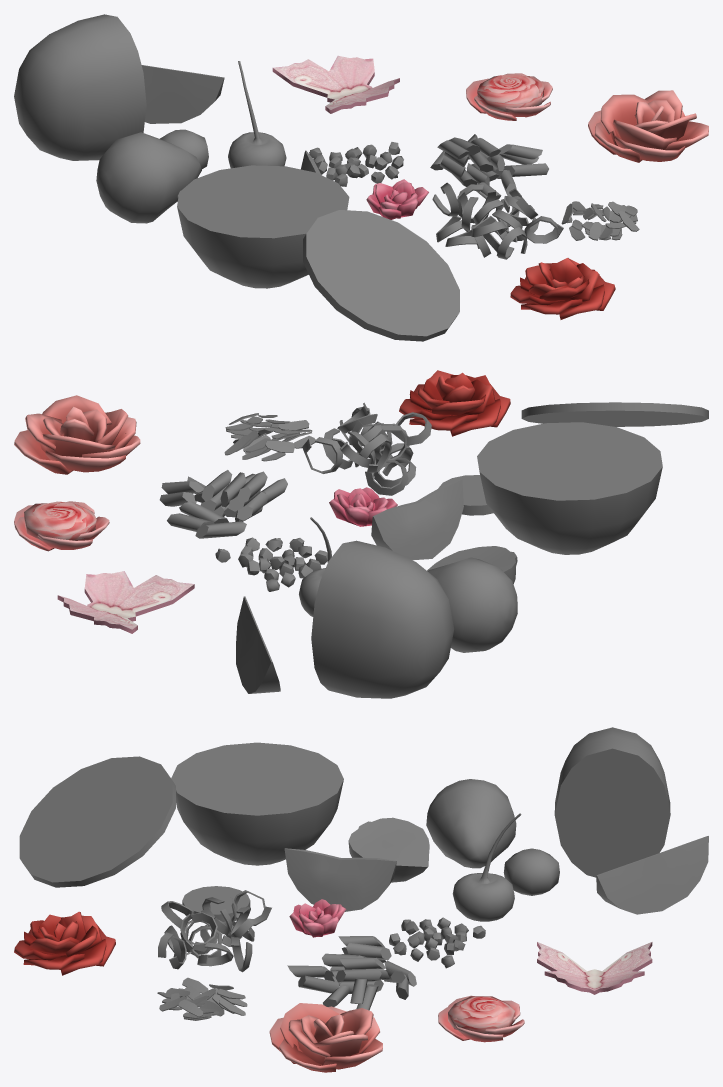
The model's file is fruitsCakeDeco.fbx.
3 views of the same model, one above another, from view 1: azimuth 30°, elevation 25°; view 2: azimuth 150°, elevation 25°; view 3: azimuth 270°, elevation 25° (orthographic). The views are drawn at different scales.
Visible parts, largest first — view 1: Box005, Sphere006, Sphere004, Box004, Line001, Helix138, Object018, Cylinder307, Line004, Box006, Sphere002, Box581 (+4 smaller); view 2: Sphere004, Box005, Line001, Box004, Cylinder307, Helix138, Object018, Box582, Line004, Sphere006, Sphere002, Box581 (+6 smaller); view 3: Sphere004, Sphere006, Box005, Line001, Box004, Box006, Cylinder307, Helix138, Box582, Object018, Box003, Line004 (+7 smaller).
Part boxes in pixels (x1=…): Box005: x1=14, y1=14, x2=146, y2=160; Sphere006: x1=303, y1=210, x2=459, y2=341; Sphere004: x1=177, y1=165, x2=349, y2=288; Box004: x1=96, y1=132, x2=201, y2=223; Line001: x1=588, y1=90, x2=708, y2=162; Helix138: x1=432, y1=182, x2=563, y2=259; Object018: x1=510, y1=258, x2=615, y2=319; Cylinder307: x1=430, y1=134, x2=548, y2=199; Line004: x1=272, y1=55, x2=399, y2=113; Box006: x1=141, y1=65, x2=224, y2=123; Sphere002: x1=466, y1=73, x2=552, y2=120; Box581: x1=309, y1=142, x2=403, y2=186; Sphere004: x1=477, y1=422, x2=662, y2=554; Box005: x1=311, y1=540, x2=454, y2=698; Line001: x1=14, y1=395, x2=140, y2=474; Box004: x1=427, y1=557, x2=517, y2=652; Cylinder307: x1=159, y1=470, x2=287, y2=538; Helix138: x1=302, y1=402, x2=431, y2=495; Object018: x1=399, y1=370, x2=510, y2=436; Box582: x1=371, y1=479, x2=463, y2=560; Line004: x1=57, y1=571, x2=194, y2=633; Sphere006: x1=521, y1=402, x2=708, y2=426; Sphere002: x1=14, y1=501, x2=109, y2=551; Box581: x1=215, y1=537, x2=327, y2=591; Sphere004: x1=171, y1=742, x2=343, y2=865; Sphere006: x1=19, y1=756, x2=175, y2=887; Box005: x1=554, y1=727, x2=670, y2=877; Line001: x1=269, y1=1003, x2=382, y2=1072; Box004: x1=426, y1=779, x2=516, y2=868; Box006: x1=596, y1=836, x2=708, y2=914; Cylinder307: x1=287, y1=936, x2=416, y2=1010; Helix138: x1=158, y1=890, x2=271, y2=972; Box582: x1=284, y1=848, x2=396, y2=911; Object018: x1=14, y1=911, x2=115, y2=975; Box003: x1=348, y1=817, x2=429, y2=882; Line004: x1=537, y1=942, x2=652, y2=994.
Bounding box in the file's own units: 805 × 196 × 893.
